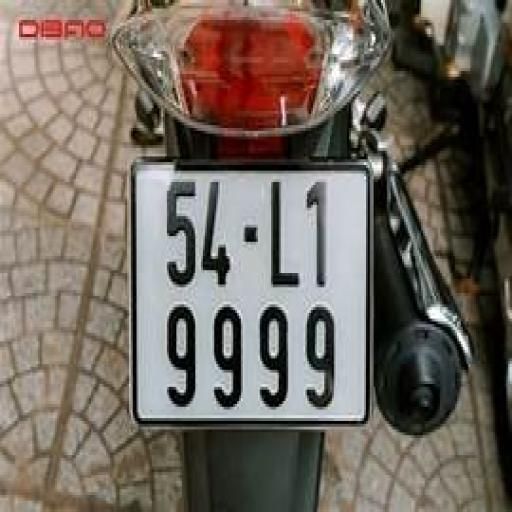place: (140, 157, 366, 423)
